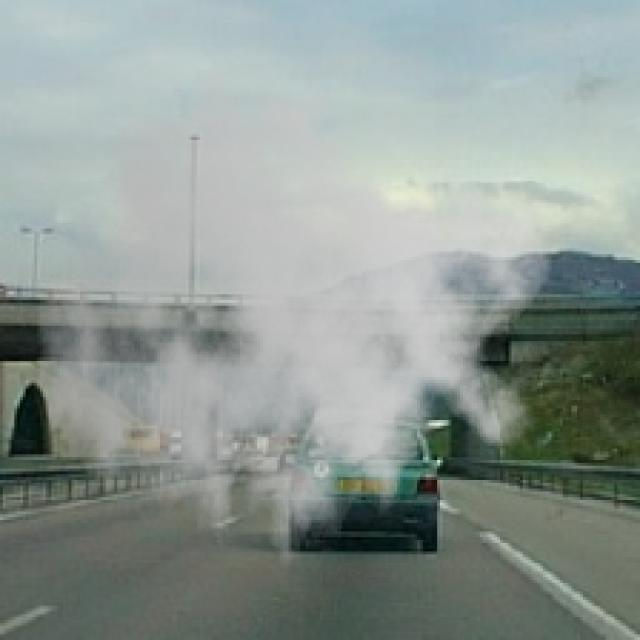smoke: (34, 57, 554, 592)
